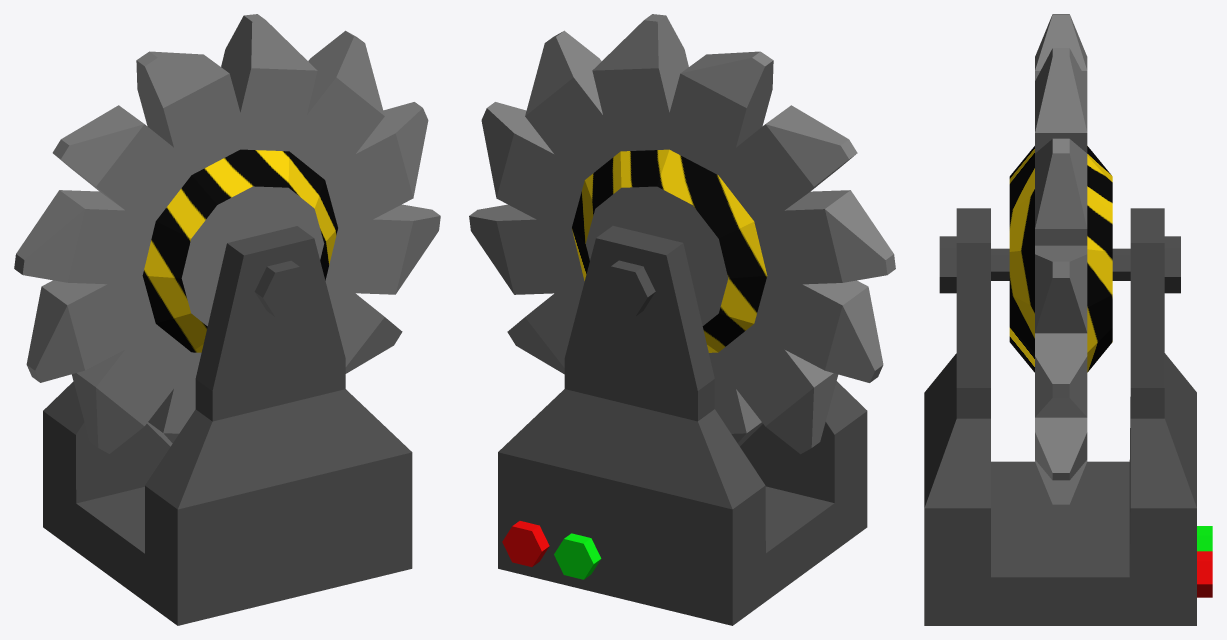
The model's file is Saw.FBX.
The picture shows the model from 3 angles, left to right: view 1: azimuth 30°, elevation 25°; view 2: azimuth 150°, elevation 25°; view 3: azimuth 270°, elevation 25°; orthographic projection.
Visible parts, largest first — view 1: Object001, Cylinder001; view 2: Object001, Cylinder001; view 3: Cylinder001, Object001.
Boxes of the visible parts, box(x1,y1,x2,y2) form: Object001: box(14, 14, 440, 453); Cylinder001: box(43, 226, 412, 625); Object001: box(469, 14, 895, 454); Cylinder001: box(498, 226, 867, 625); Cylinder001: box(924, 208, 1212, 625); Object001: box(1009, 14, 1112, 504).
Size of the model in its own units: 1.66 by 1.98 by 0.9772.
Materials: 1 (1 with a texture image).
